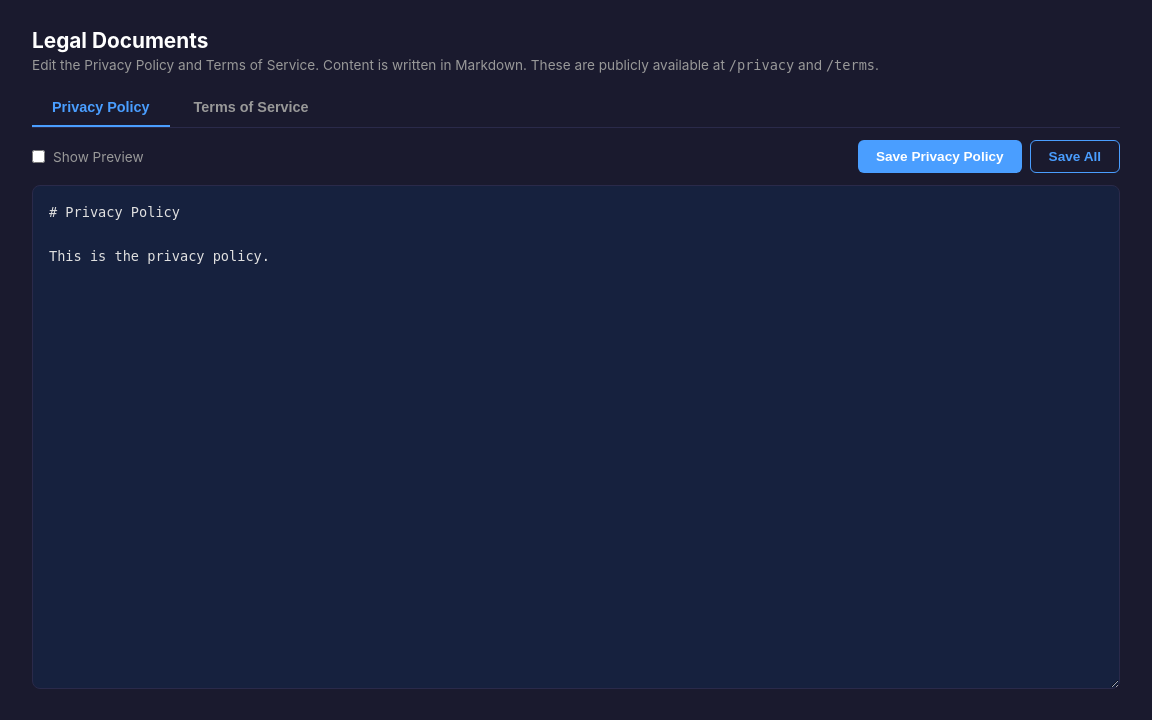
Test: AdminLegalPage › shows success message after save
Click the button with test id "legal-save-btn" at (940, 156), box [858,140,1022,173]
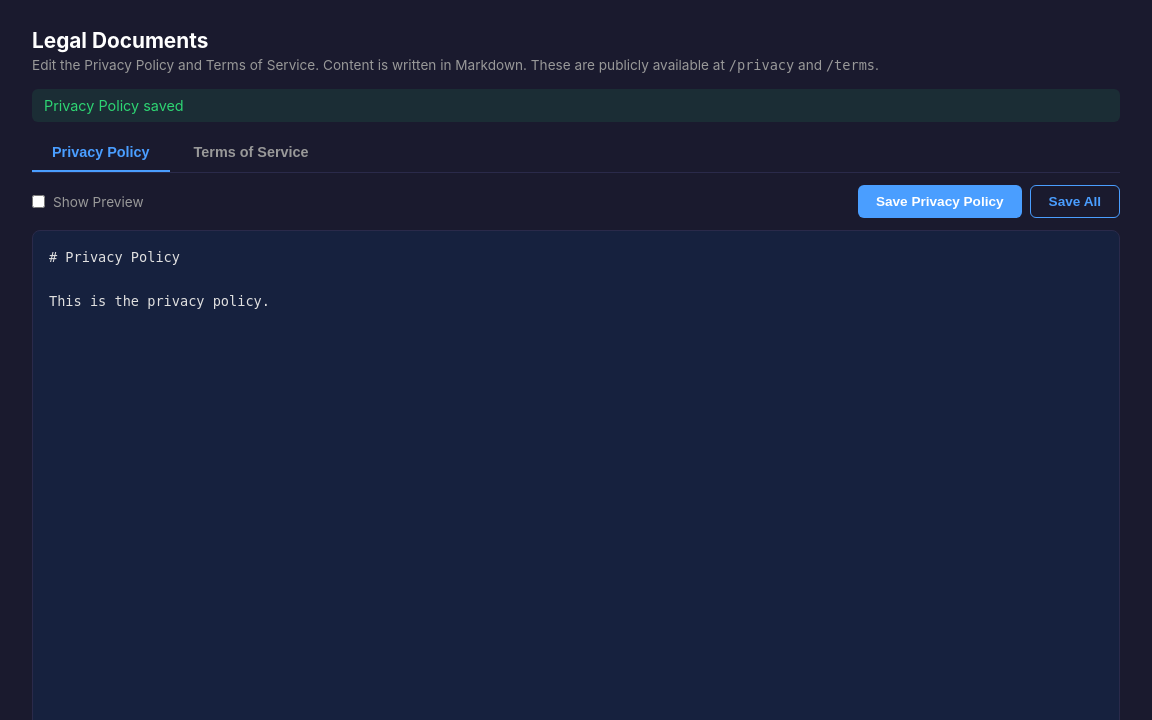
expect the text "Privacy Policy saved" is shown: met, box [32,89,1120,122]
